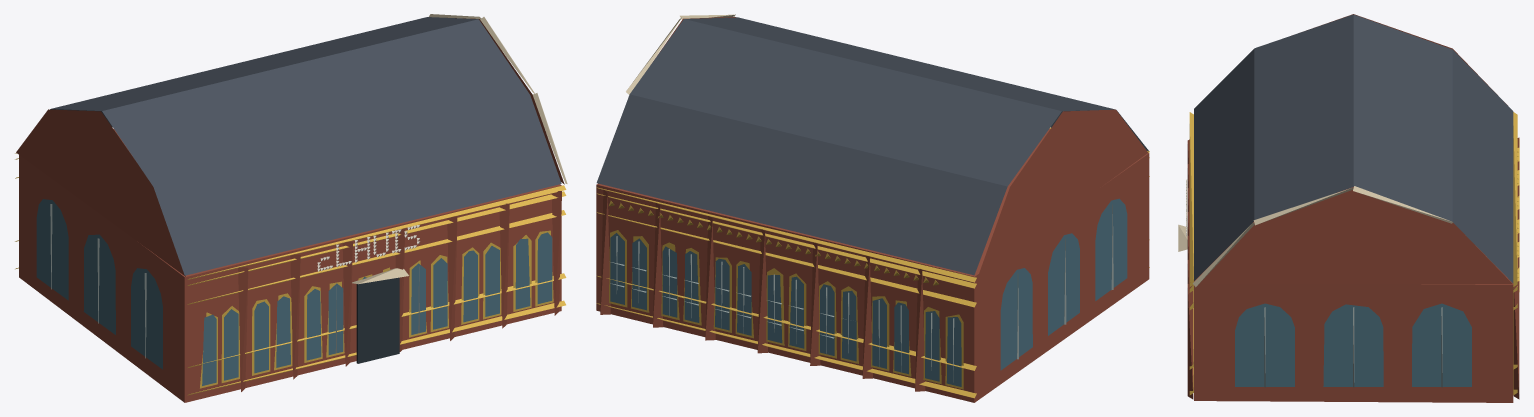
The model's file is ketelhuis.lod1.glb.
3 renders of one model, left to right at view 1: azimuth 30°, elevation 25°; view 2: azimuth 150°, elevation 25°; view 3: azimuth 270°, elevation 25°, orthographic. The views are drawn at different scales.
Visible parts, largest first — view 1: ketelhuis; view 2: ketelhuis; view 3: ketelhuis.
Part boxes in pixels (bbox=[...]): ketelhuis: bbox=[15, 14, 567, 402]; ketelhuis: bbox=[596, 14, 1149, 402]; ketelhuis: bbox=[1178, 14, 1519, 402].
Bounding box in the file's own units: 23.62 × 13.51 × 19.29.
